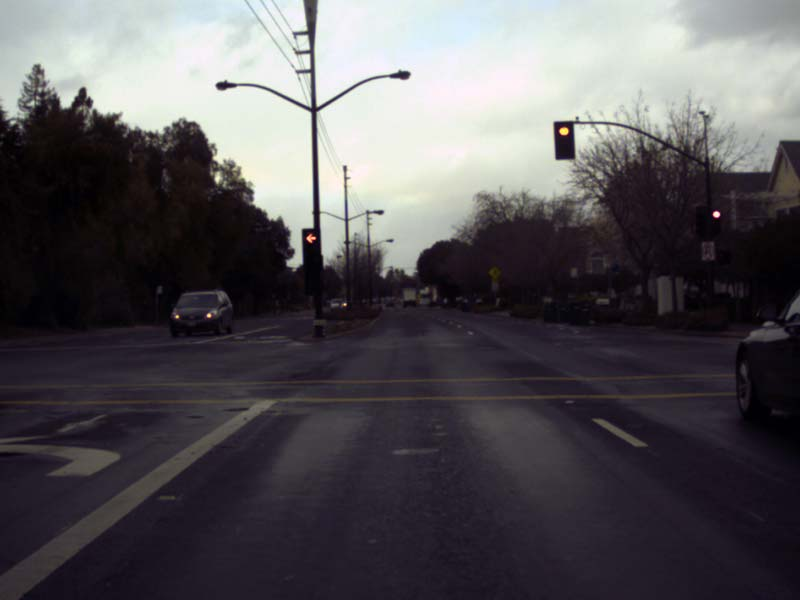Red: (553, 121, 574, 158), (302, 228, 320, 270), (711, 210, 720, 232)
